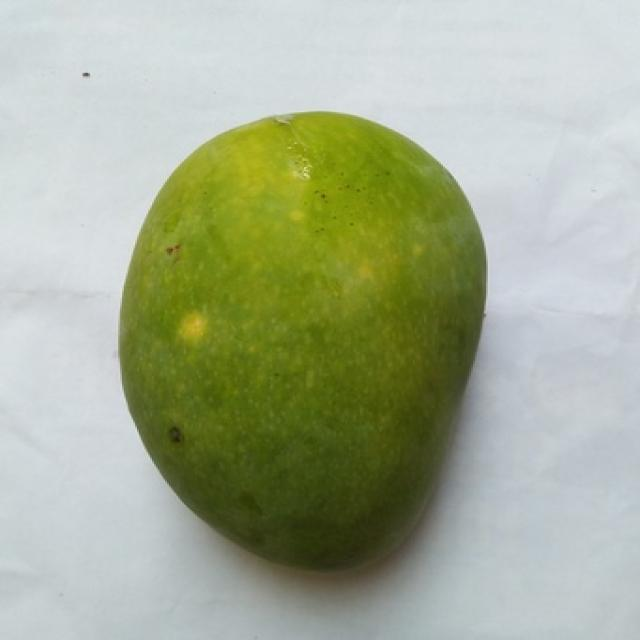Mango: (120, 115, 482, 566)
